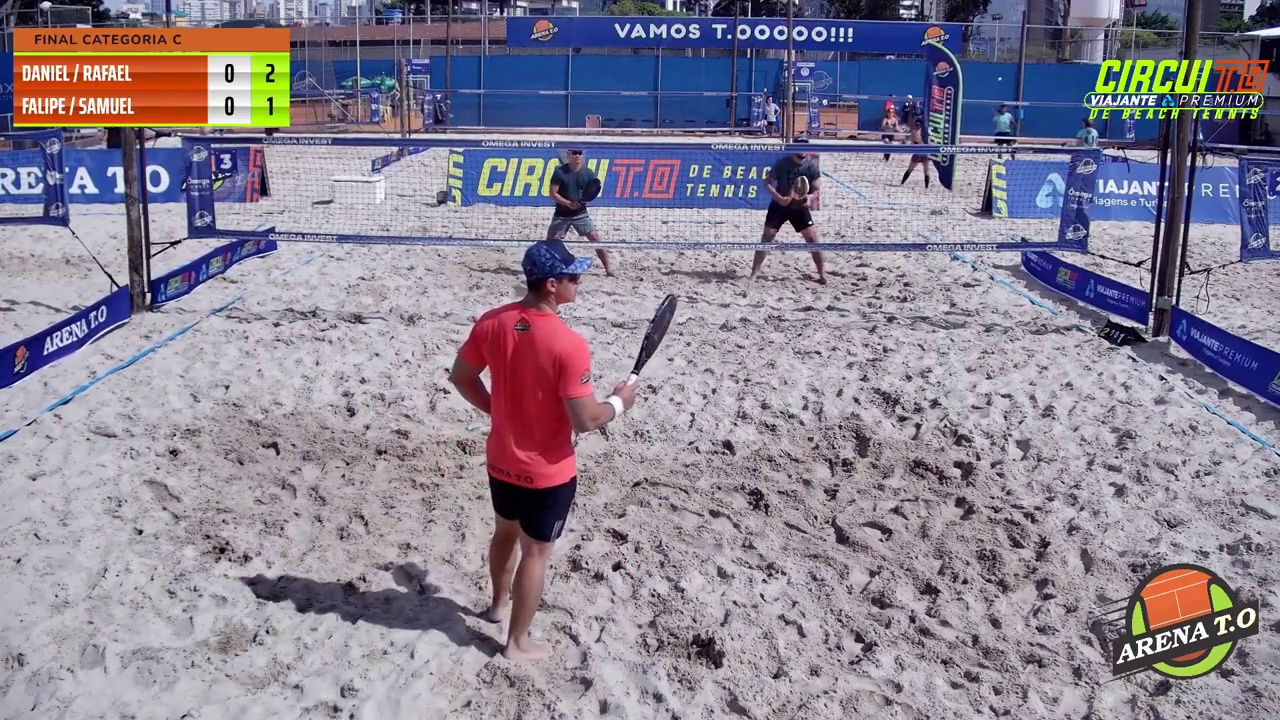court_line: (519, 0, 670, 541), (642, 0, 811, 437), (507, 0, 668, 375)
